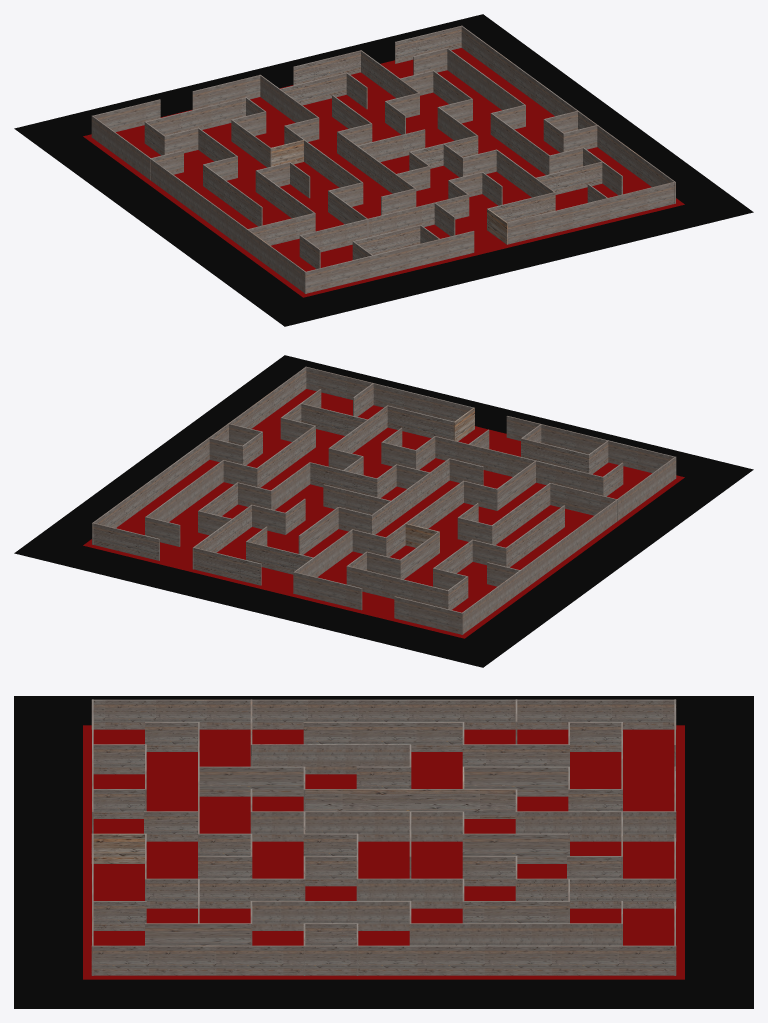
Rendered from laberinto.glb.
3 views of the same model, one above another, from view 1: azimuth 30°, elevation 25°; view 2: azimuth 150°, elevation 25°; view 3: azimuth 270°, elevation 25° (orthographic). The views are drawn at different scales.
Visible parts, largest first — view 1: Plane.049, Plane.024, Plane.023, Plane.001, Plane.071, Plane.012, Plane.004, Plane.018, Plane.030, Plane.027, Plane.034, Plane.025 (+39 smaller); view 2: Plane.049, Plane.024, Plane.023, Plane.012, Plane.071, Plane.001, Plane.004, Plane.018, Plane.003, Plane.056, Plane.025, Plane.030 (+39 smaller); view 3: Plane.049, Plane.023, Plane.024, Plane.018, Plane.056, Plane.030, Plane.063, Plane.017, Plane.062, Plane.034, Plane.052, Plane.039 (+23 smaller).
Part boxes in pixels (x1,y1,x2,y2): Plane.049: (14, 14, 753, 326); Plane.024: (92, 115, 306, 293); Plane.023: (461, 25, 675, 203); Plane.001: (304, 231, 474, 293); Plane.071: (507, 182, 674, 244); Plane.012: (299, 194, 469, 256); Plane.004: (145, 97, 245, 135); Plane.018: (337, 131, 416, 206); Plane.030: (447, 48, 525, 126); Plane.027: (395, 26, 461, 63); Plane.034: (490, 113, 550, 175); Plane.025: (192, 75, 260, 110); Plane.049: (14, 355, 753, 667); Plane.024: (461, 456, 675, 634); Plane.023: (92, 367, 306, 544); Plane.012: (435, 436, 603, 495); Plane.071: (305, 366, 473, 421); Plane.001: (506, 416, 676, 478); Plane.004: (346, 566, 448, 609); Plane.018: (372, 458, 449, 534); Plane.003: (394, 596, 463, 634); Plane.056: (385, 481, 463, 556); Plane.025: (294, 572, 362, 610); Plane.030: (146, 460, 223, 522); Plane.049: (14, 696, 753, 1008); Plane.023: (91, 945, 676, 975); Plane.024: (91, 699, 676, 729); Plane.018: (252, 811, 464, 841); Plane.056: (305, 789, 517, 818); Plane.030: (410, 923, 622, 945); Plane.063: (516, 878, 676, 908); Plane.017: (517, 811, 676, 841); Plane.062: (146, 878, 305, 908); Plane.034: (252, 901, 411, 930); Plane.052: (252, 744, 409, 774); Plane.039: (303, 722, 464, 751).
Size of the model in its own units: 45.57 by 2 by 45.57.
5 materials, 3 textured.
